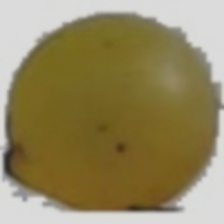grapes: (10, 32, 186, 178)
